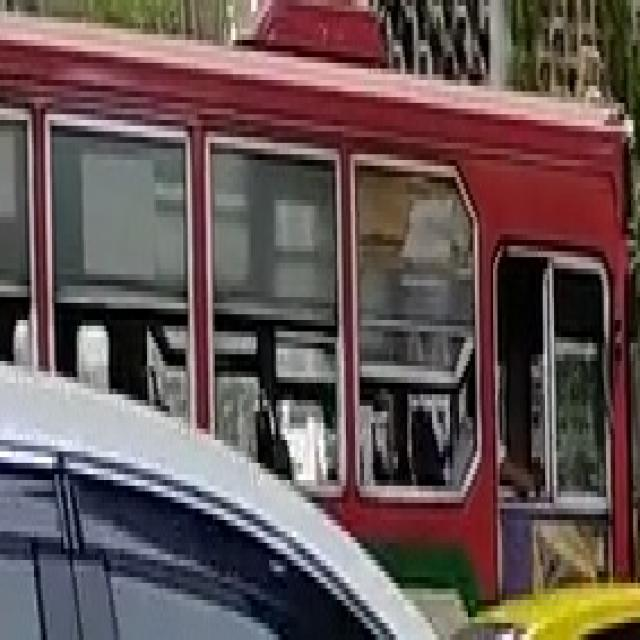door: (0, 0, 635, 605), (493, 240, 613, 594)
